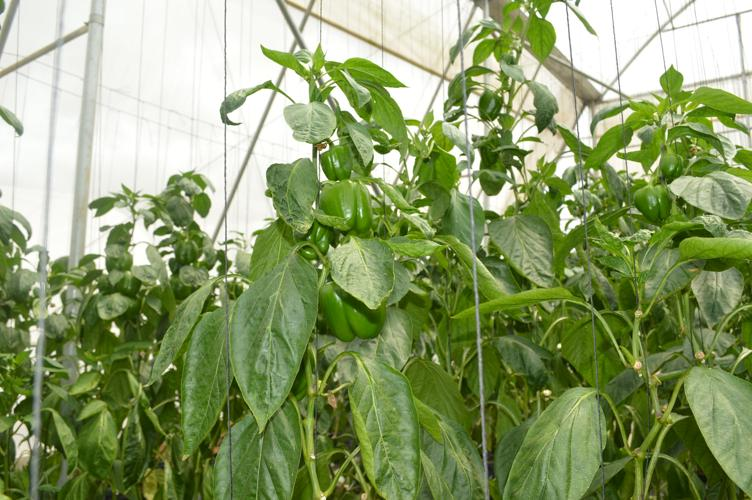BellPepper: (316, 283, 388, 343), (315, 181, 372, 236), (297, 224, 330, 260), (638, 185, 667, 222), (321, 145, 351, 176)
